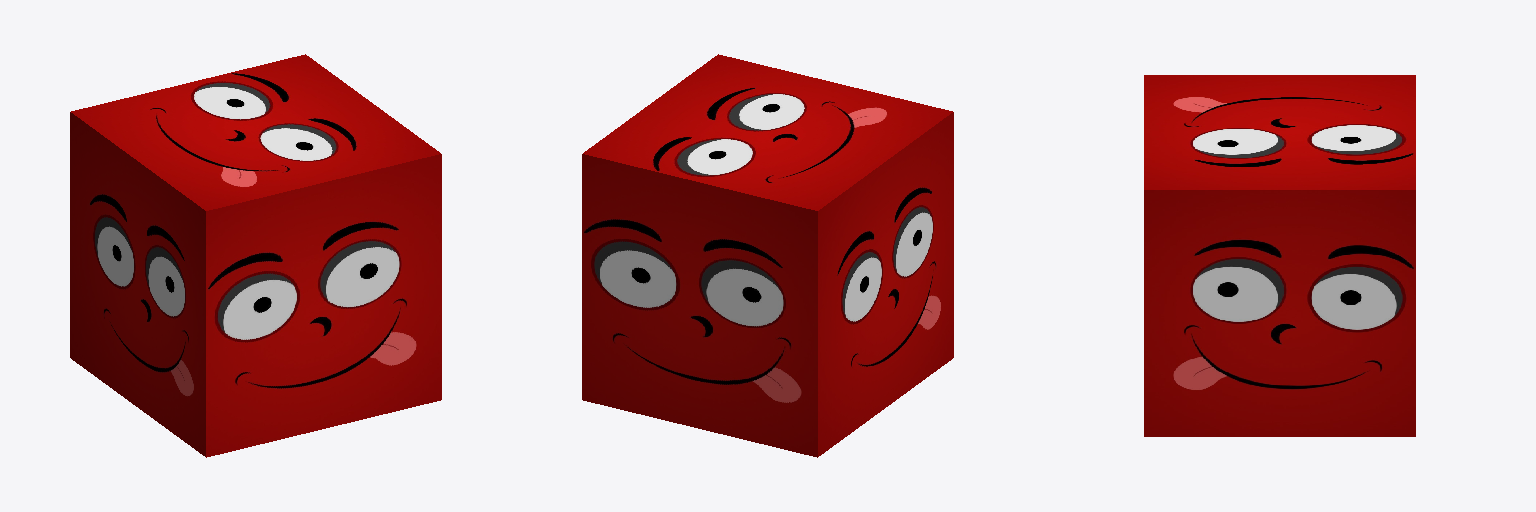
3 views of the same model, side by side, from view 1: azimuth 30°, elevation 25°; view 2: azimuth 150°, elevation 25°; view 3: azimuth 270°, elevation 25° (orthographic).
Visible parts, largest first — view 1: Куб; view 2: Куб; view 3: Куб.
Part boxes in pixels (bbox=[...]): Куб: bbox=[70, 54, 441, 457]; Куб: bbox=[582, 54, 953, 457]; Куб: bbox=[1144, 75, 1415, 436].
Bounding box in the file's own units: 0.65 × 0.65 × 0.65.
1 materials, 1 textured.